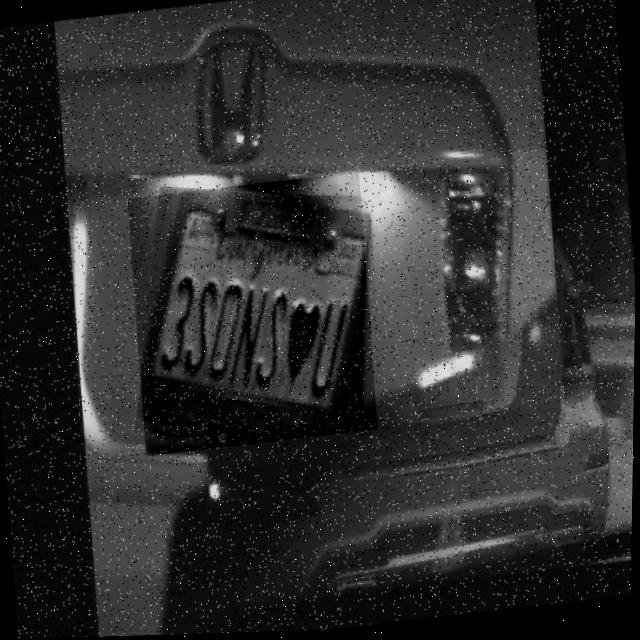LicensePlate: (125, 173, 382, 457)
